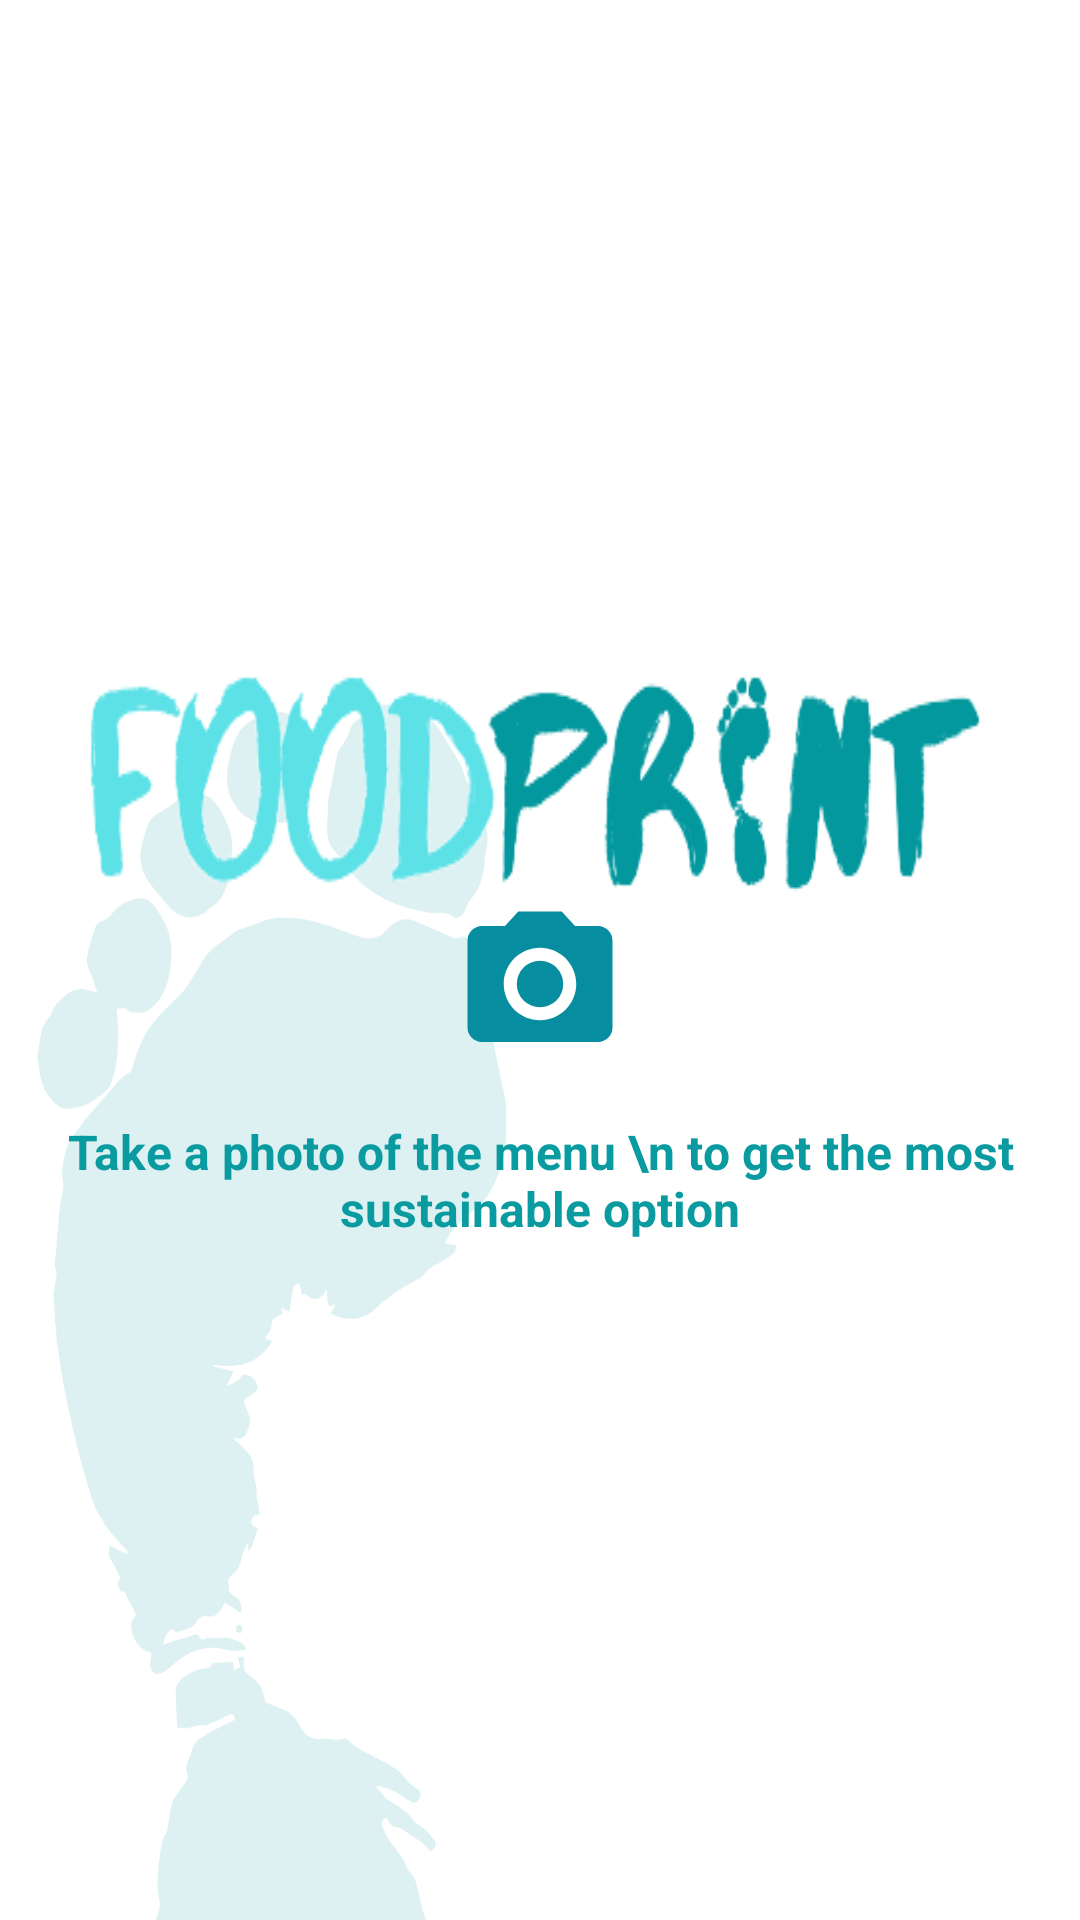

Named icons in this screenshot (1080*1920) and their bounding boxes, (left=x1, top=y1, right=x2, bottom=y2):
photo camera: (left=453, top=897, right=613, bottom=1071)
